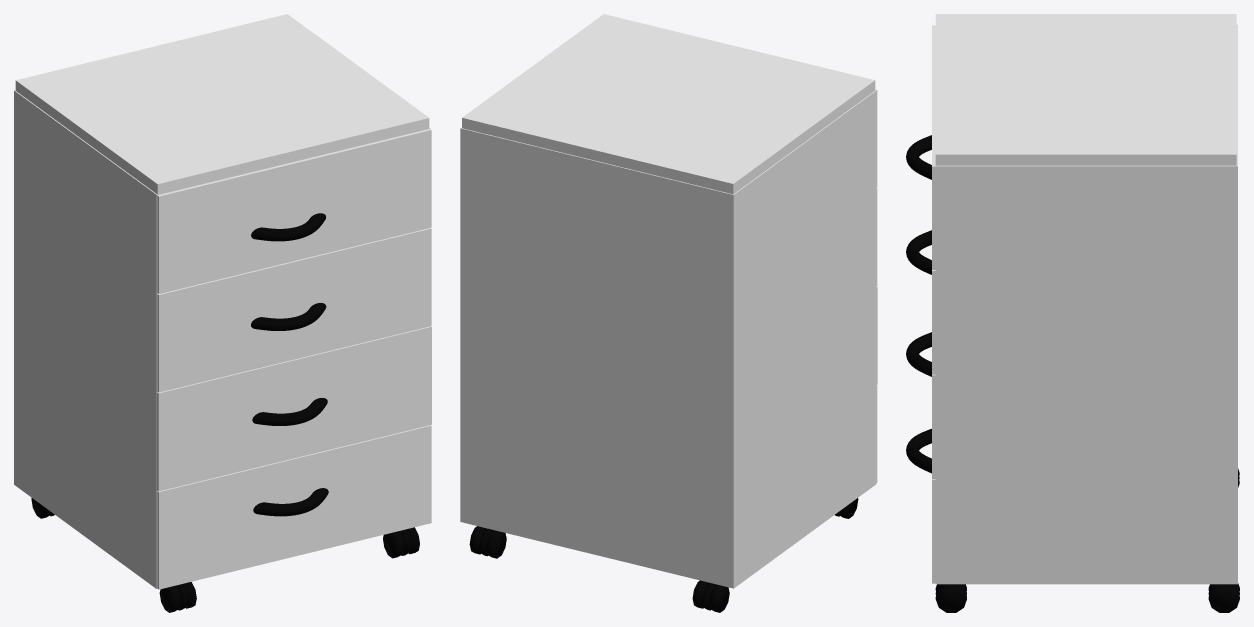
Rendered from mesinhabiblioteca.fbx.
3 views of the same model, side by side, from view 1: azimuth 30°, elevation 25°; view 2: azimuth 150°, elevation 25°; view 3: azimuth 270°, elevation 25° (orthographic). The views are drawn at different scales.
Parts seen in each view (by area): view 1: Mesinhadabiblioteca, alçadagaveta3, rodinha; view 2: Mesinhadabiblioteca, rodinha; view 3: Mesinhadabiblioteca, alçadagaveta3, rodinha.
Part boxes in pixels (<box>): Mesinhadabiblioteca: <box>14,14,431,589</box>; alçadagaveta3: <box>251,213,328,516</box>; rodinha: <box>31,498,419,612</box>; Mesinhadabiblioteca: <box>460,14,877,588</box>; rodinha: <box>469,498,858,612</box>; Mesinhadabiblioteca: <box>932,14,1237,584</box>; alçadagaveta3: <box>906,135,931,473</box>; rodinha: <box>935,468,1239,612</box>.
Size of the model in its own units: 1.33 by 2.03 by 1.33.
3 materials, 1 textured.
